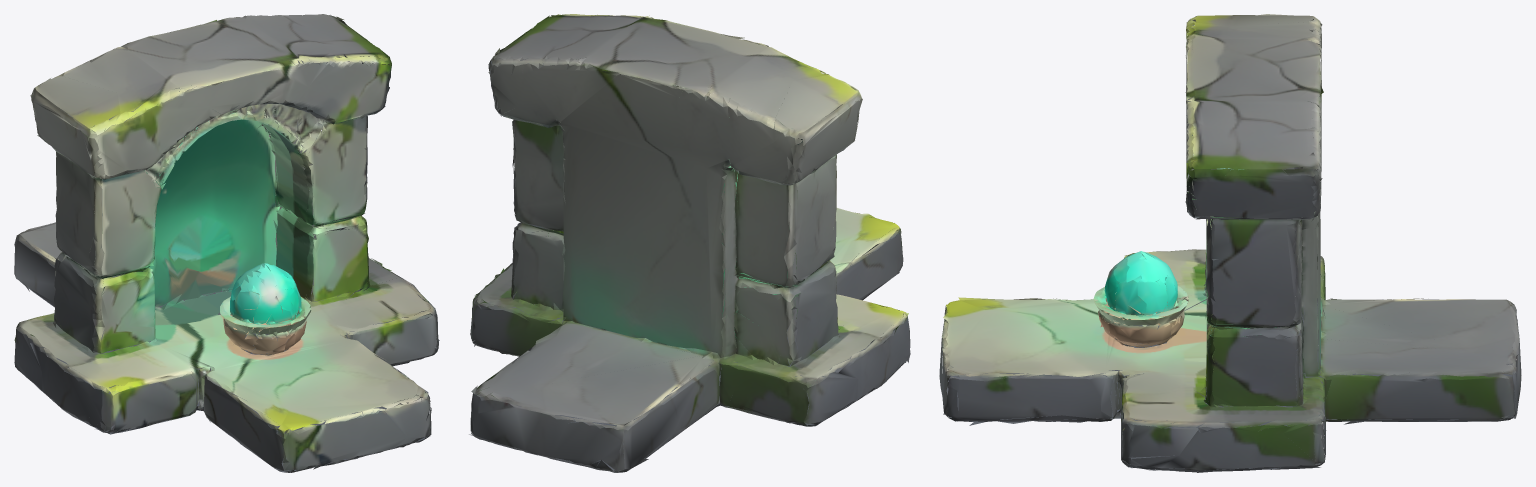
Rendered from Lab_Shrine.glb.
3 views of the same model, side by side, from view 1: azimuth 30°, elevation 25°; view 2: azimuth 150°, elevation 25°; view 3: azimuth 270°, elevation 25° (orthographic). The views are drawn at different scales.
Visible parts, largest first — view 1: Lab_Shrine; view 2: Lab_Shrine; view 3: Lab_Shrine.
Part boxes in pixels (bbox=[...]): Lab_Shrine: bbox=[14, 14, 439, 472]; Lab_Shrine: bbox=[469, 14, 910, 472]; Lab_Shrine: bbox=[939, 14, 1521, 472].
Bounding box in the file's own units: 2.45 × 2.01 × 3.35.
1 material, 1 textured.
